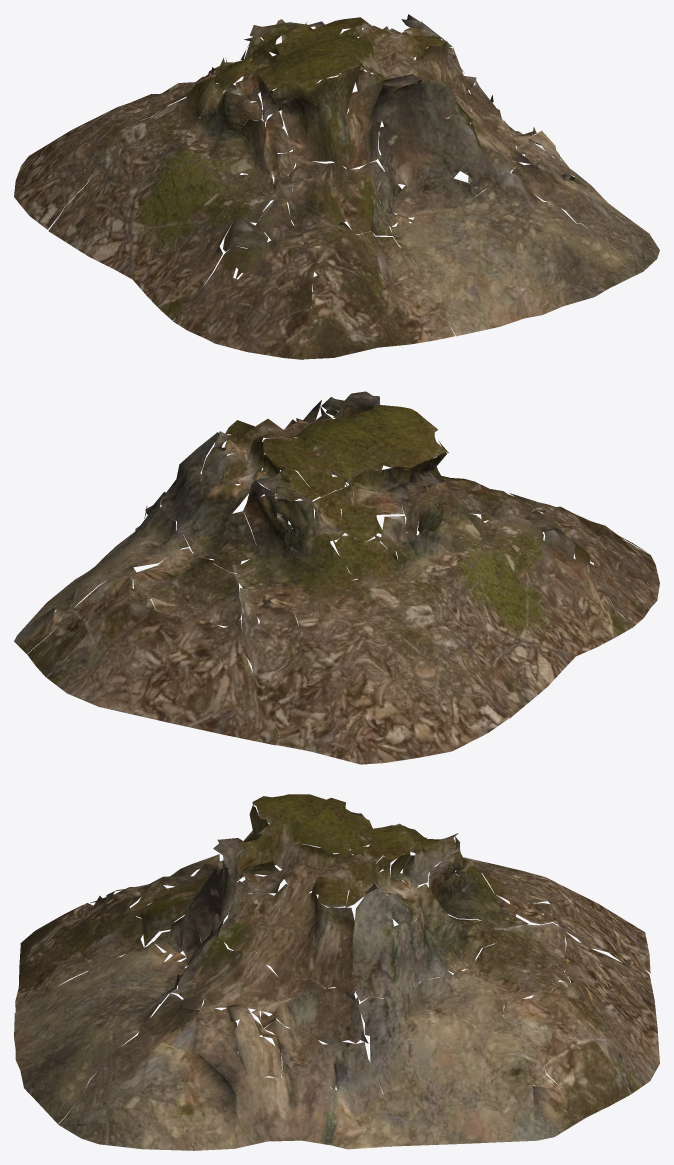
Rendered from forest-stump.glb.
3 views of the same model, one above another, from view 1: azimuth 30°, elevation 25°; view 2: azimuth 150°, elevation 25°; view 3: azimuth 270°, elevation 25° (orthographic). The views are drawn at different scales.
Visible parts, largest first — view 1: tree_stump_01; view 2: tree_stump_01; view 3: tree_stump_01.
Boxes of the visible parts, left/top/right/bottom form: tree_stump_01: left=14, top=14, right=659, bottom=359; tree_stump_01: left=14, top=391, right=659, bottom=764; tree_stump_01: left=14, top=794, right=659, bottom=1150.
Bounding box in the file's own units: 1.42 × 0.571 × 1.59.
Materials: 1 (1 with a texture image).
